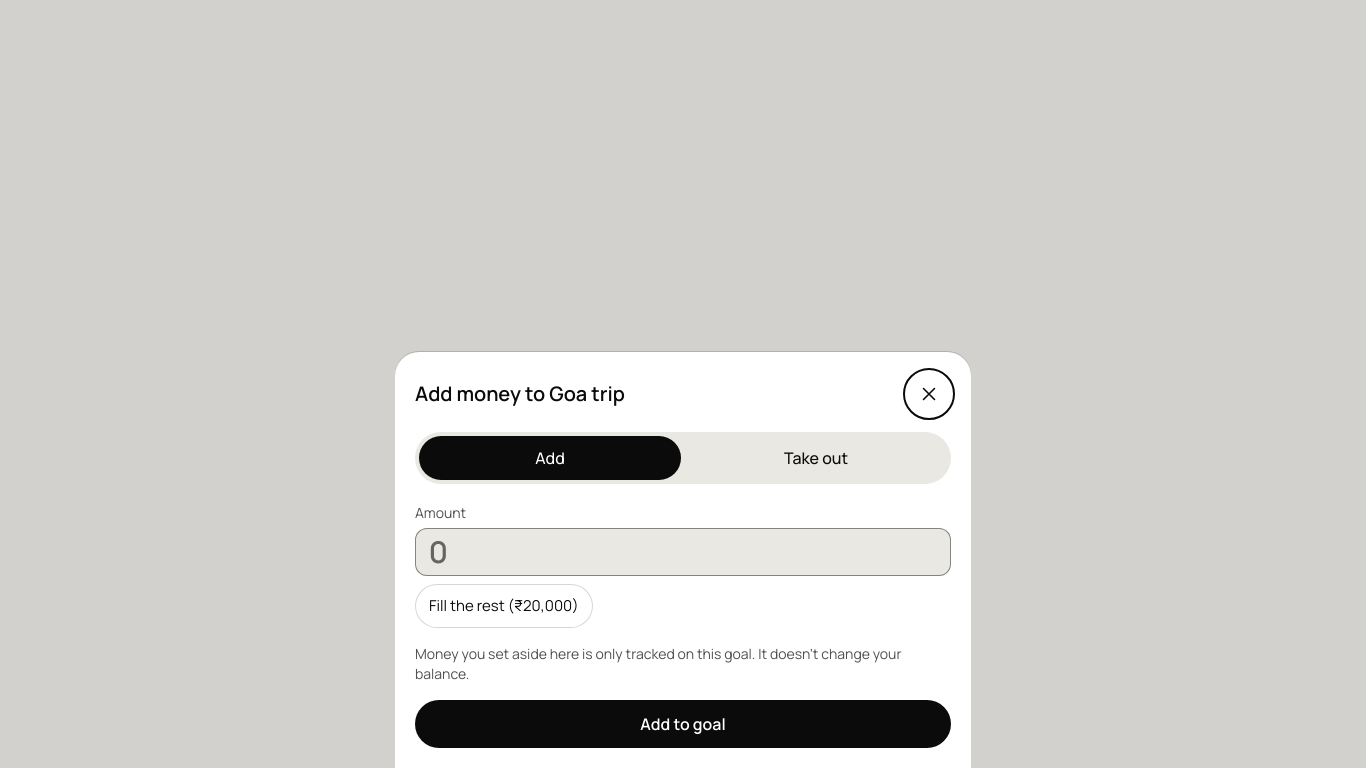
Test: GoalMoneySheet › fills in what is still needed, and says when that reaches the goal
The width and height of the screenshot is (1366, 768).
Click the button "Fill the rest (₹20,000)": (504, 606) [415,584,593,628]
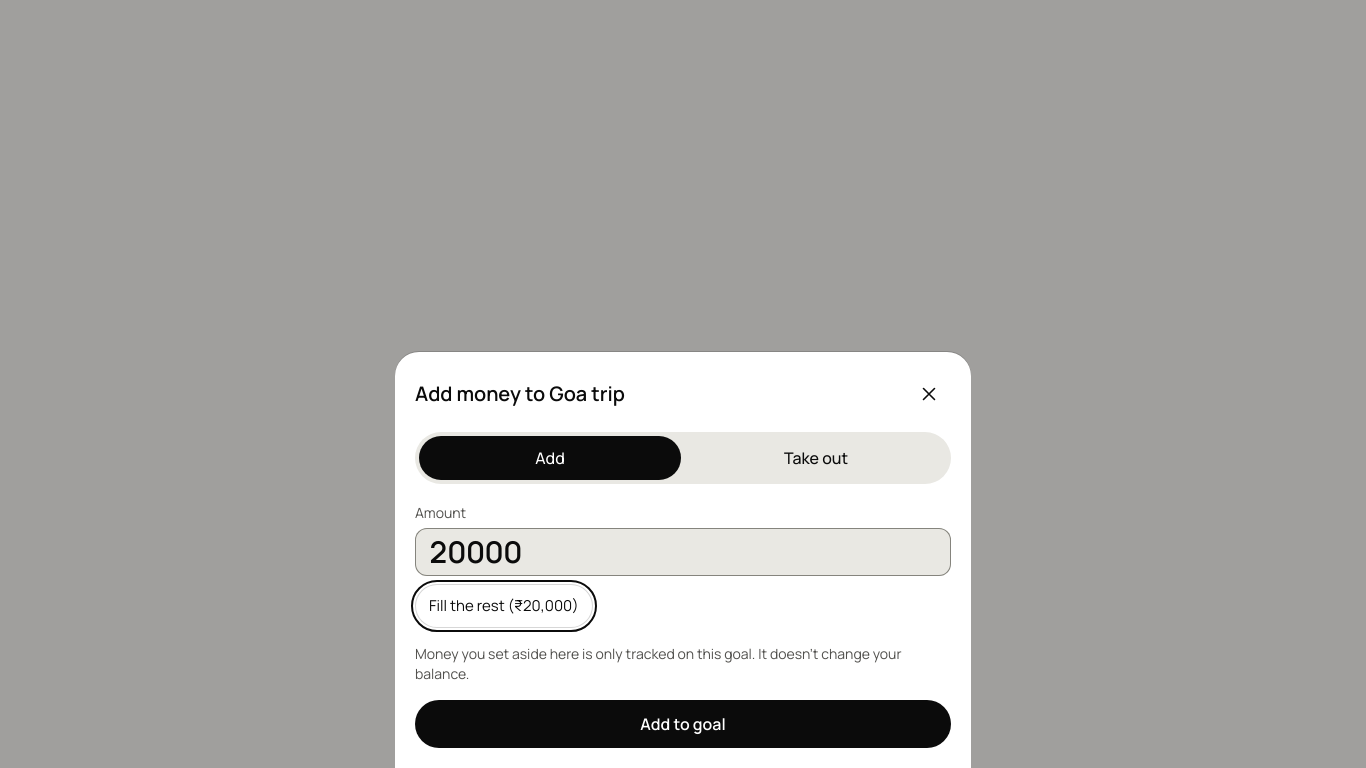
Result: the field labelled "Amount" holds "20000" at [415,528,951,576]
Click the button "Add to goal": (683, 724) [415,700,951,748]
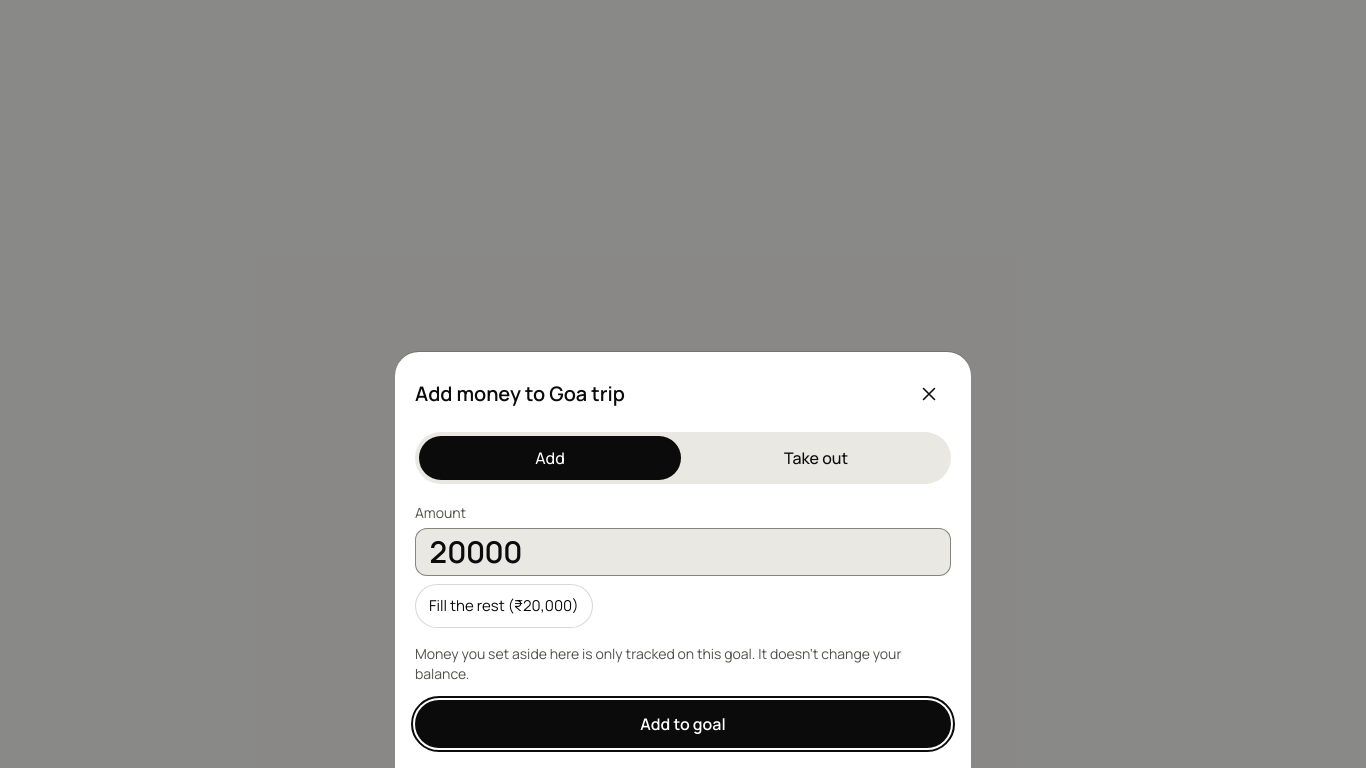
Result: the message shows "Goal reached: Goa trip" at [565,577,728,599]
